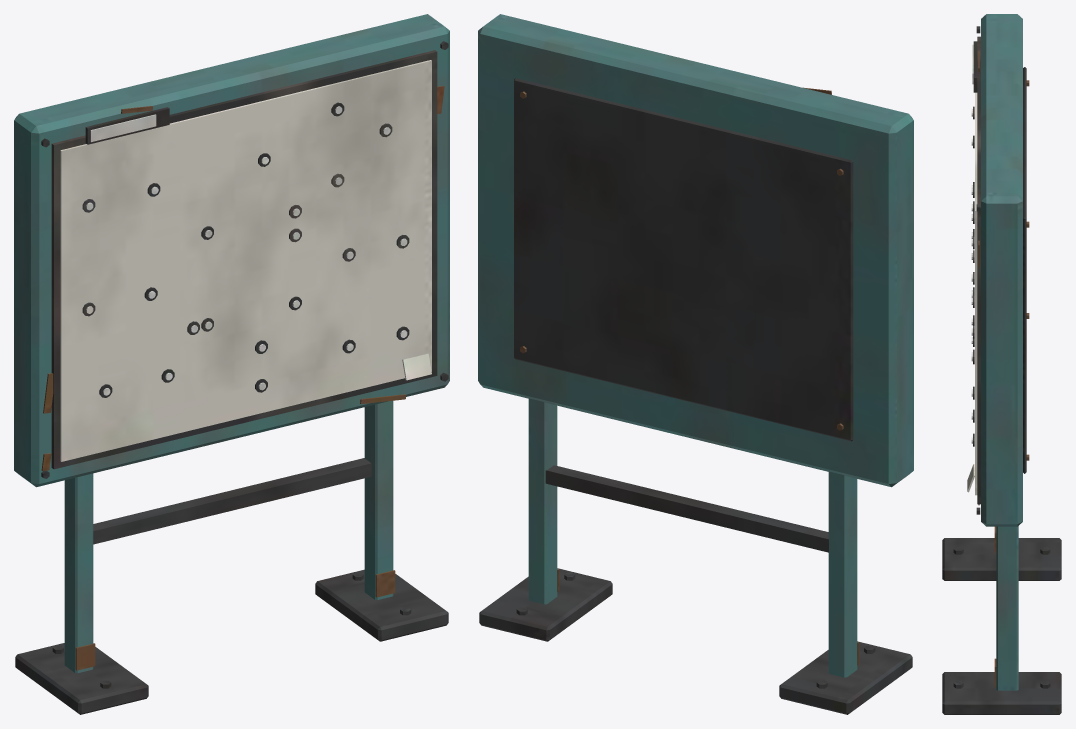
File: RE07_metro_map_board.glb
3 views of the same model, side by side, from view 1: azimuth 30°, elevation 25°; view 2: azimuth 150°, elevation 25°; view 3: azimuth 270°, elevation 25° (orthographic). The views are drawn at different scales.
Parts seen in each view (by area): view 1: Board cabinet; view 2: Board cabinet; view 3: Board cabinet.
Boxes of the visible parts, box(x1,y1,x2,y2) form: Board cabinet: box(14, 14, 449, 714); Board cabinet: box(478, 14, 913, 714); Board cabinet: box(942, 14, 1061, 714).
Bounding box in the file's own units: 1.52 × 2 × 0.4103.
Materials: 10 (10 with a texture image).
